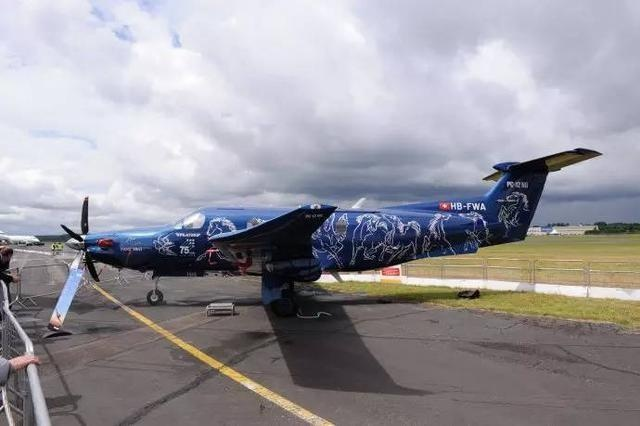airplane: (61, 147, 605, 322)
